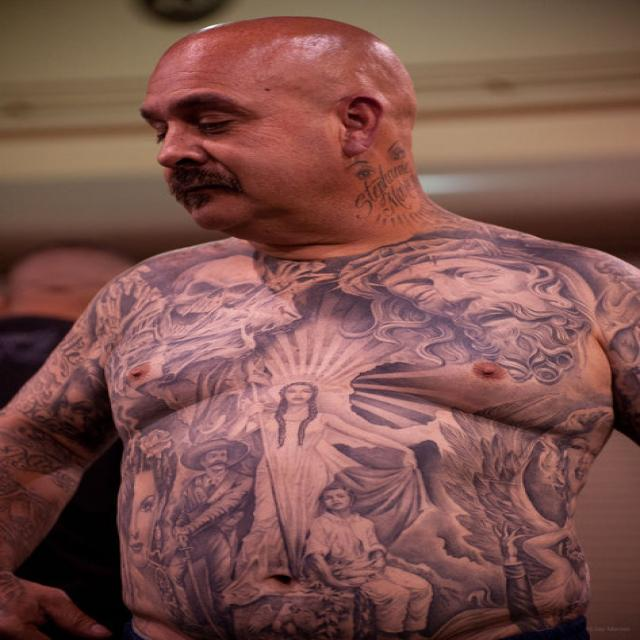bald: (124, 11, 438, 122)
